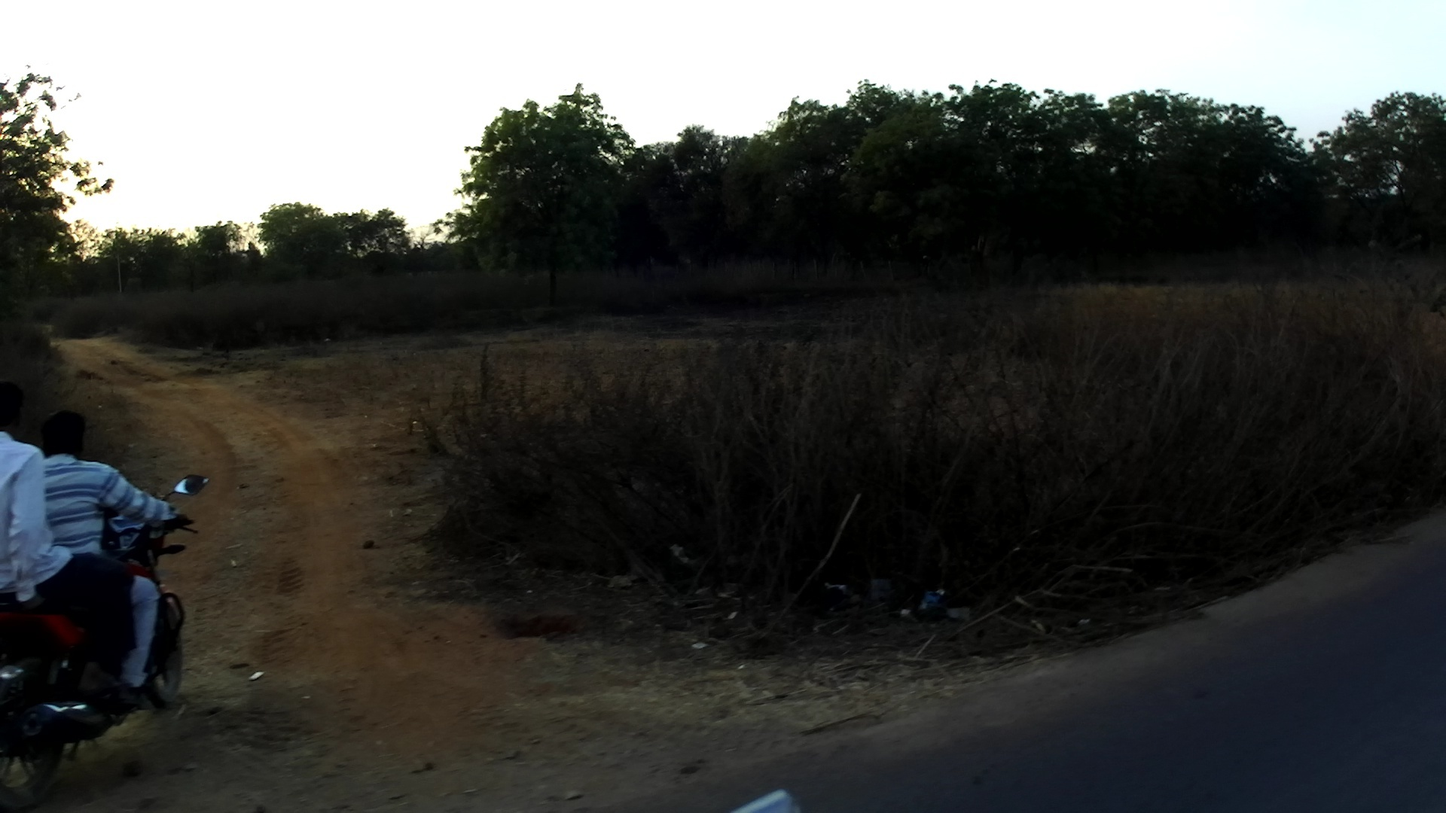motorcycle: (1, 471, 211, 813)
rider: (31, 410, 185, 708), (1, 382, 135, 721)
